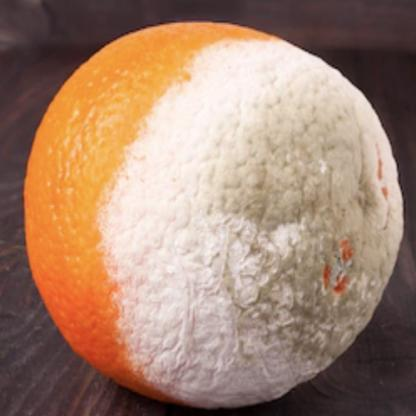rotten: (23, 22, 403, 410)
